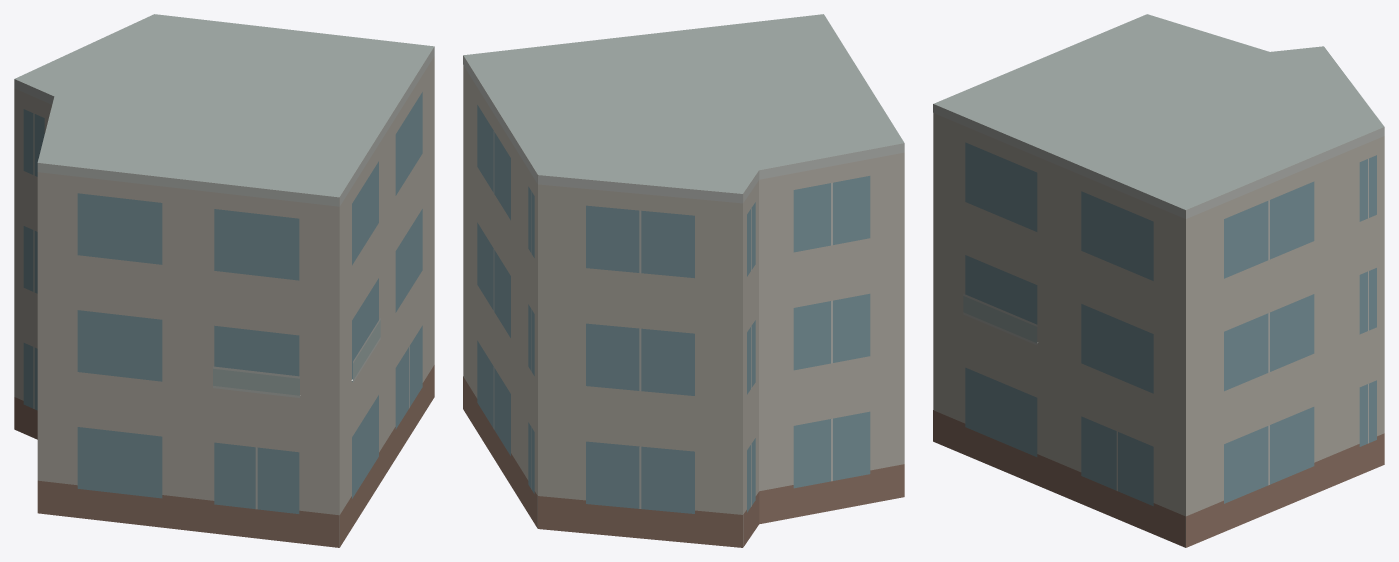
The model's file is survey-upis-32941300.glb.
3 views of the same model, side by side, from view 1: azimuth 30°, elevation 25°; view 2: azimuth 150°, elevation 25°; view 3: azimuth 270°, elevation 25° (orthographic). The views are drawn at different scales.
Parts seen in each view (by area): view 1: survey-upis-32941300.tmp; view 2: survey-upis-32941300.tmp; view 3: survey-upis-32941300.tmp.
Boxes of the visible parts, box(x1,y1,x2,y2) form: survey-upis-32941300.tmp: box(14, 14, 434, 547); survey-upis-32941300.tmp: box(463, 14, 904, 547); survey-upis-32941300.tmp: box(933, 14, 1384, 547).
Bounding box in the file's own units: 11.41 × 9.15 × 11.09.
